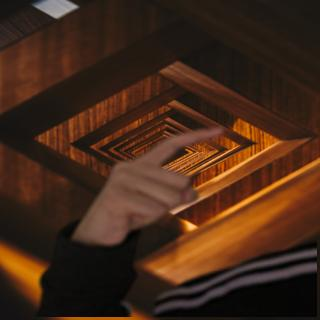WHY: (71, 117, 233, 246)
